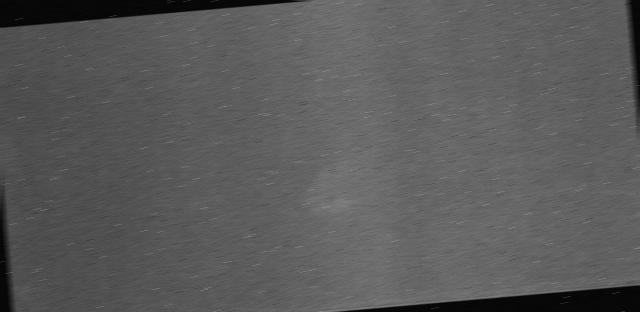welding_line: (13, 270, 640, 312)
